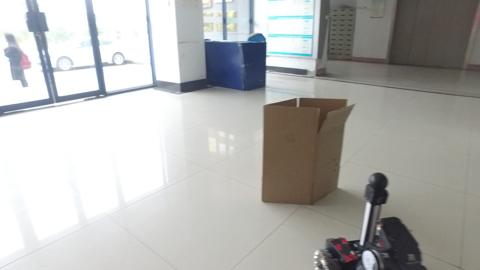box: (262, 93, 348, 206)
chariot: (310, 173, 429, 268)
